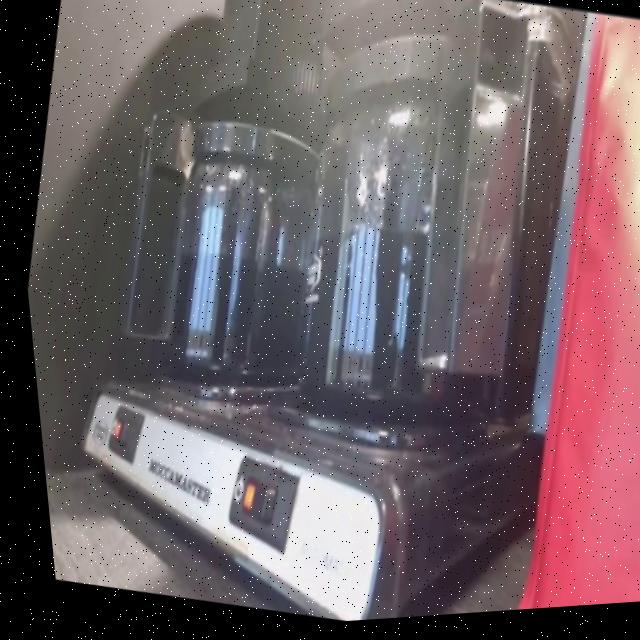coffee: (265, 147, 516, 437), (131, 167, 329, 403)
